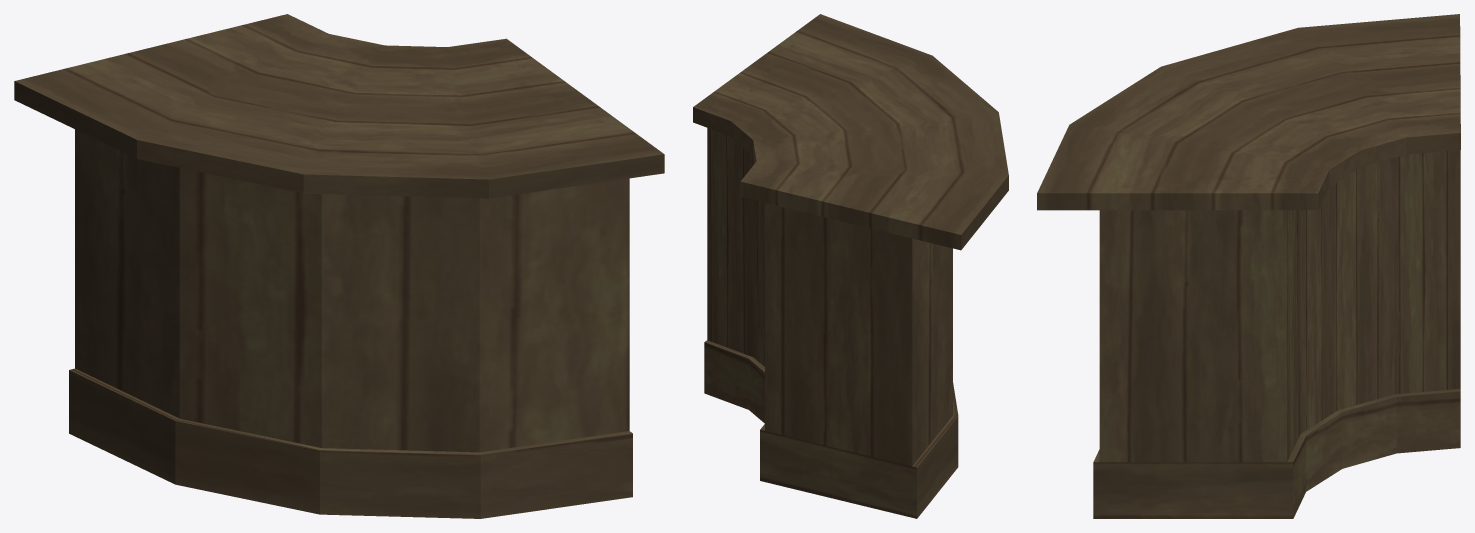
File: counter_BL.glb
3 views of the same model, side by side, from view 1: azimuth 30°, elevation 25°; view 2: azimuth 150°, elevation 25°; view 3: azimuth 270°, elevation 25° (orthographic). The views are drawn at different scales.
Visible parts, largest first — view 1: counter_BL; view 2: counter_BL; view 3: counter_BL.
Part boxes in pixels (bbox=[...]): counter_BL: bbox=[14, 14, 664, 518]; counter_BL: bbox=[693, 14, 1008, 518]; counter_BL: bbox=[1037, 14, 1460, 518].
Bounding box in the file's own units: 1.36 × 1.15 × 1.36.
1 material, 1 textured.
